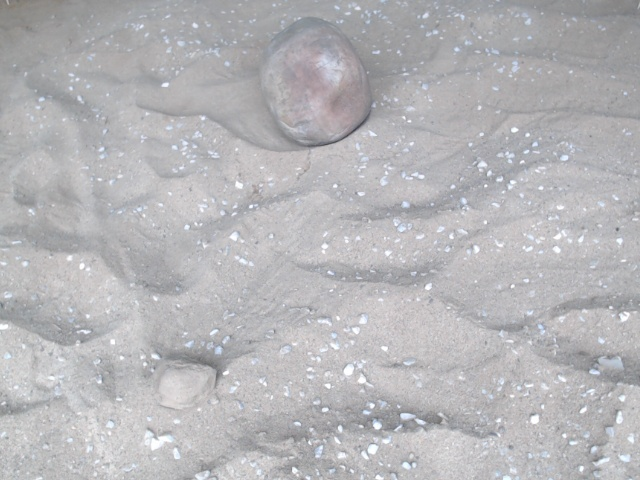rock: (254, 11, 376, 151), (147, 356, 221, 415)
